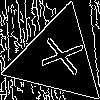X: (32, 33, 84, 77)
